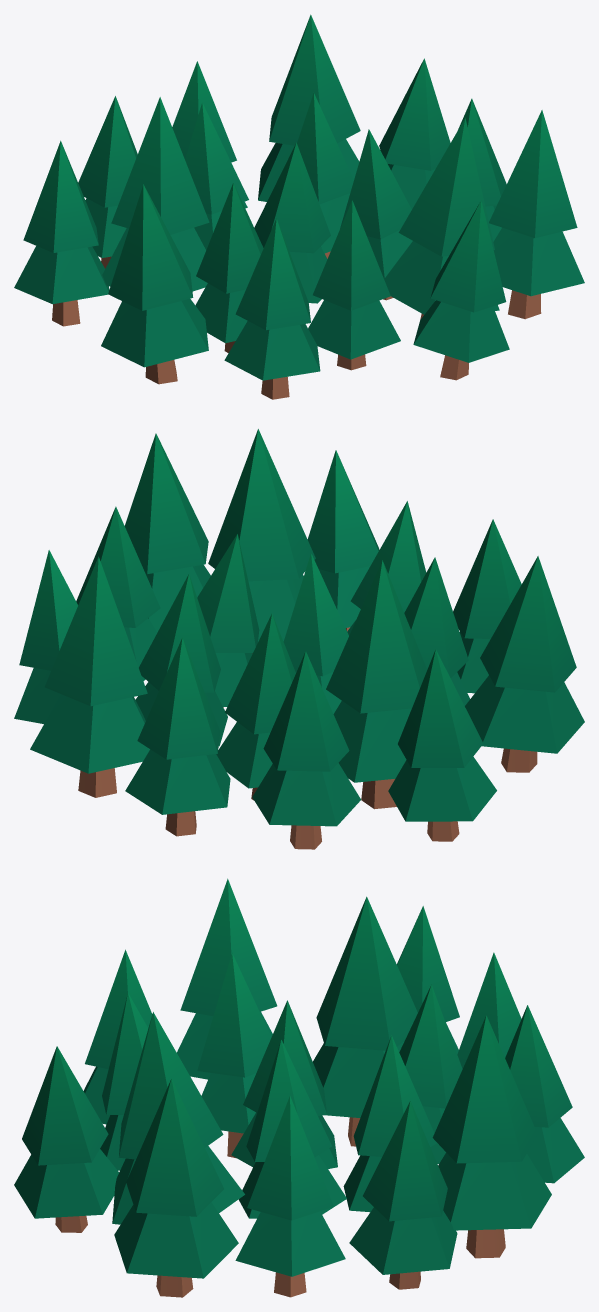
File: trees_large.glb
The picture shows the model from 3 angles, top to bottom: view 1: azimuth 30°, elevation 25°; view 2: azimuth 150°, elevation 25°; view 3: azimuth 270°, elevation 25°; orthographic projection. The views are drawn at different scales.
Parts seen in each view (by area): view 1: trees_A_large; view 2: trees_A_large; view 3: trees_A_large.
Part boxes in pixels (<box>): trees_A_large: <box>14,14,584,399</box>; trees_A_large: <box>14,429,584,849</box>; trees_A_large: <box>14,878,584,1297</box>.
Size of the model in its own units: 1.95 by 0.9264 by 1.97.
Materials: 1 (1 with a texture image).
